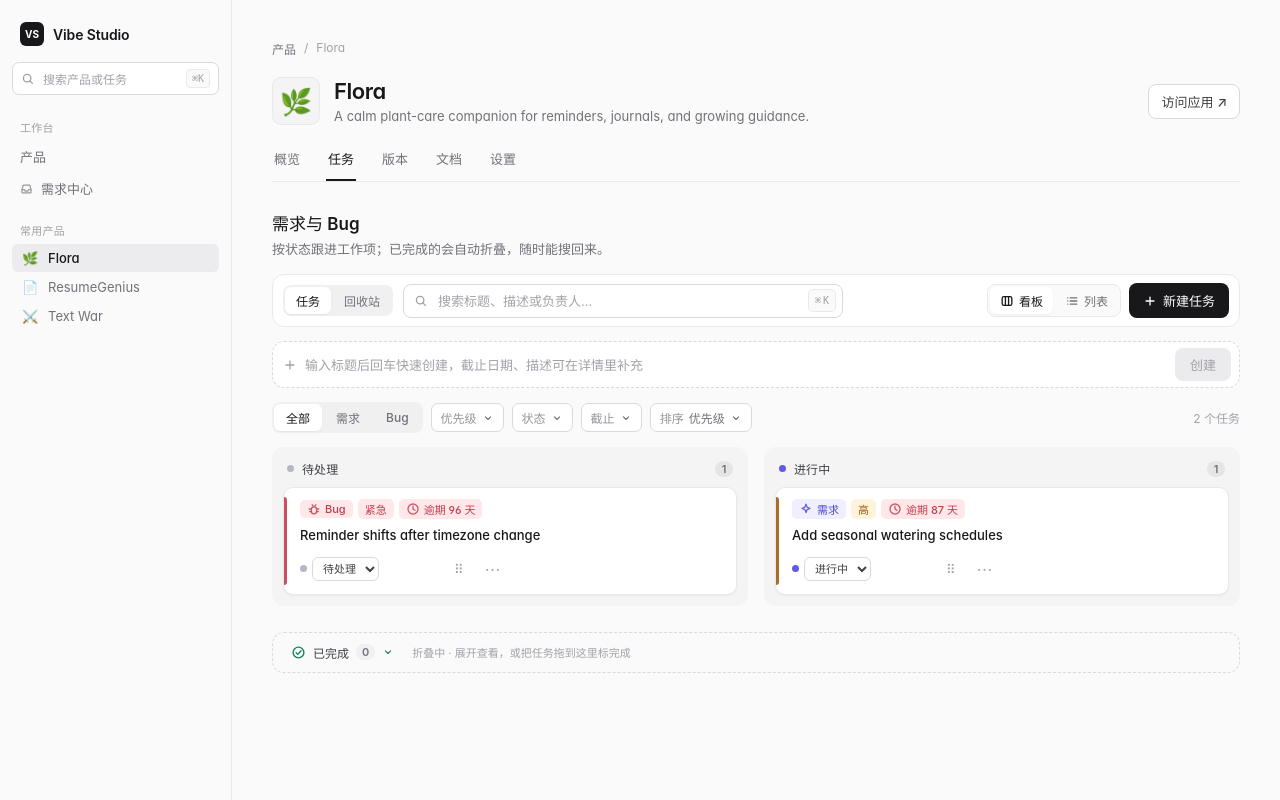
task board › moves work through labelled status selects and refreshes overview metrics
The image size is (1280, 800).
Select "已完成" in the dropdown named "Add seasonal watering schedules 状态" at x=838, y=569, box [804, 557, 871, 581]
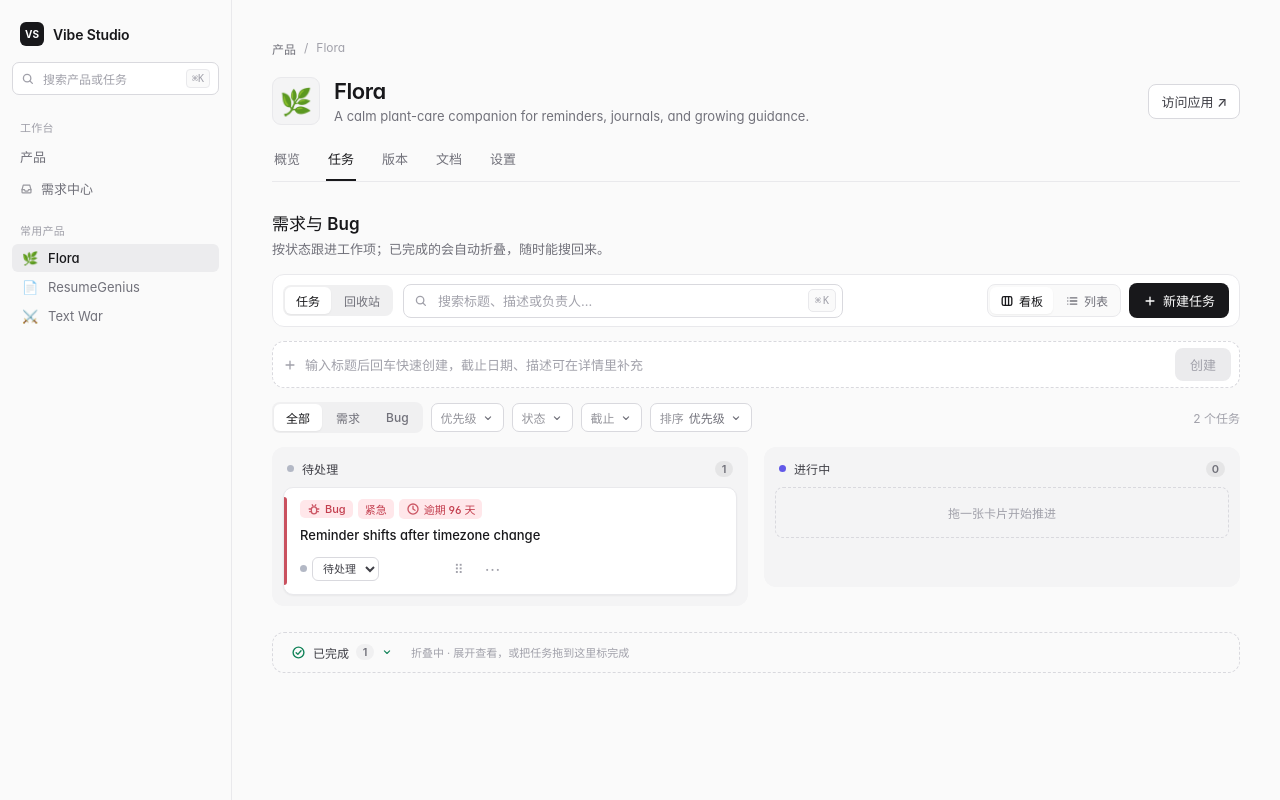
Select "进行中" in the dropdown named "Reminder shifts after timezone change 状态" at x=346, y=569, box [312, 557, 379, 581]
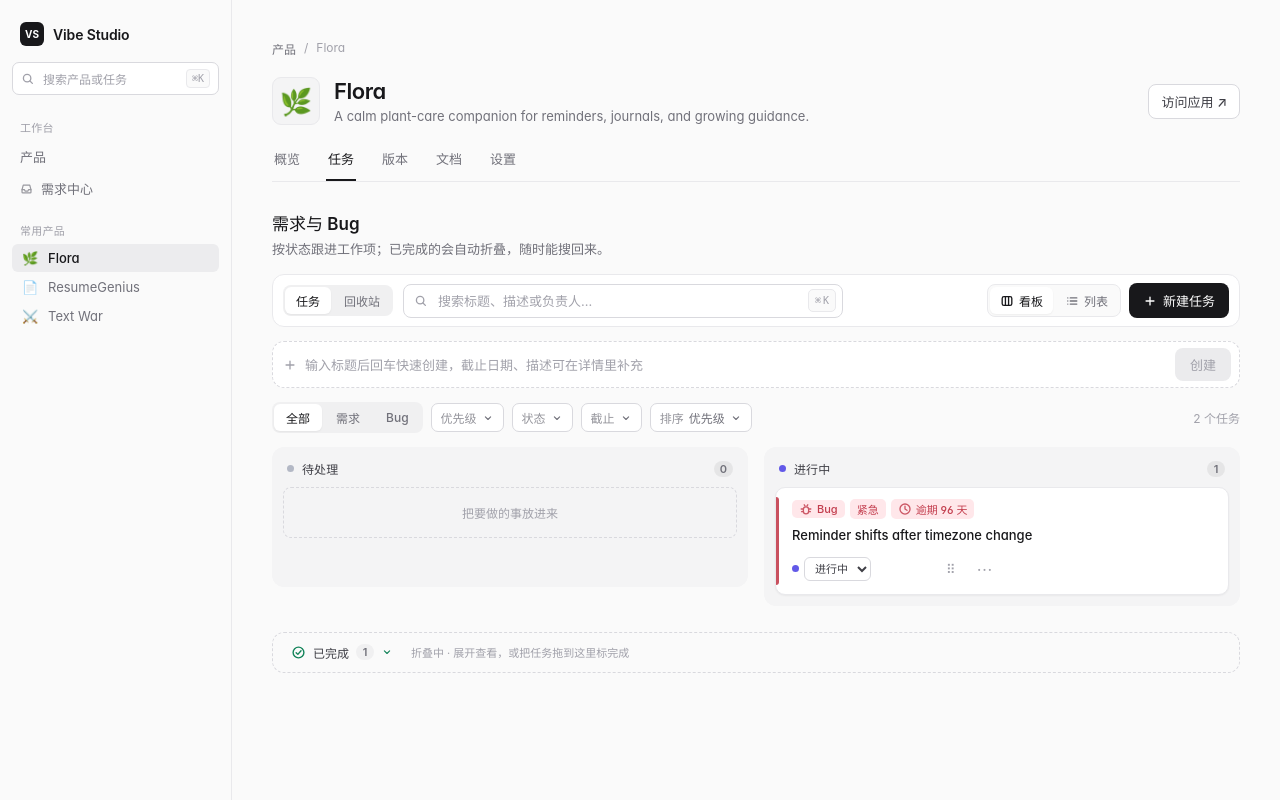
Click the link "概览" at x=287, y=159, box [274, 151, 300, 167]
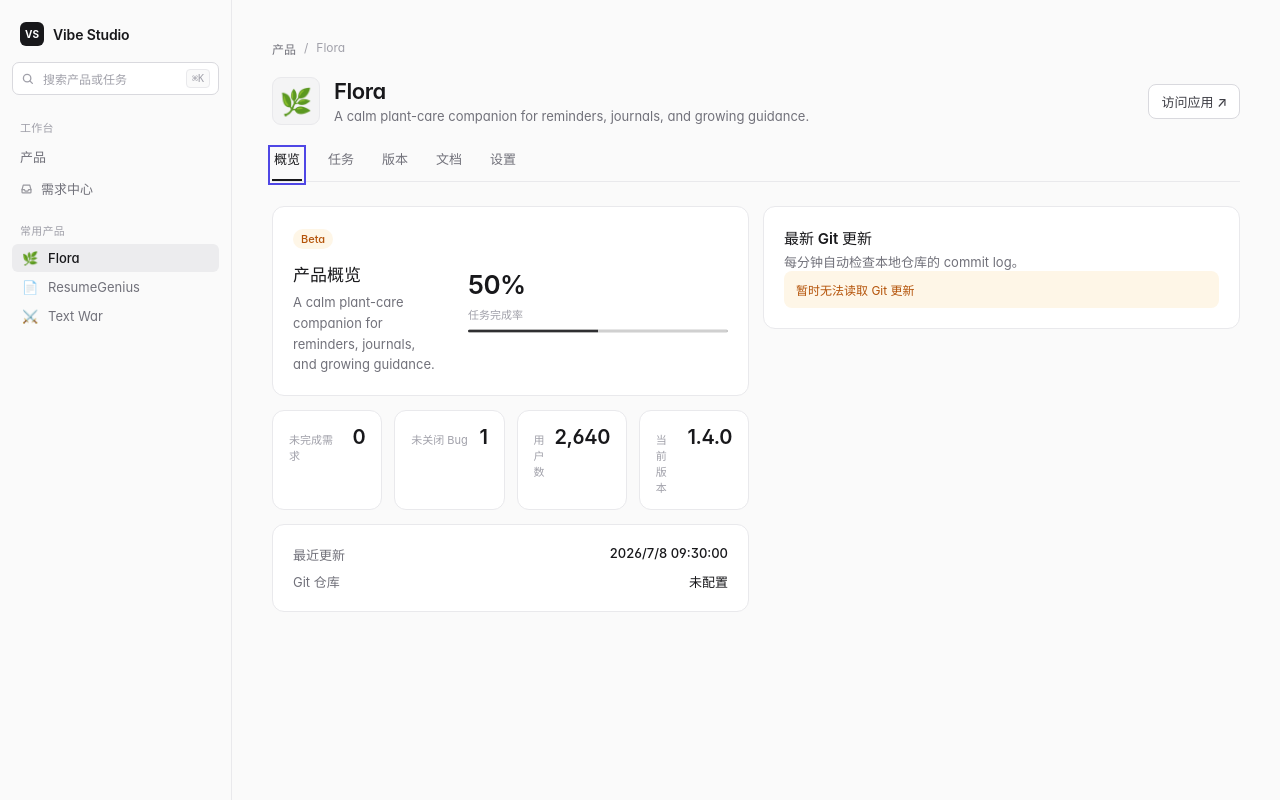
Expected: the text "1" is shown, [479, 425, 488, 449]
Expected: the text "0" is shown, [352, 425, 365, 449]
